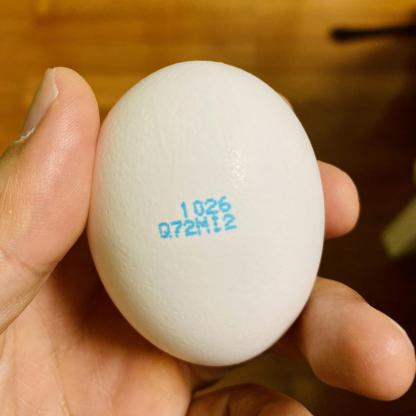egg: (77, 55, 333, 364)
